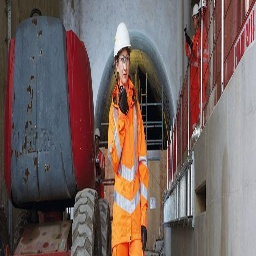helmet: (112, 22, 135, 60)
person: (107, 20, 150, 256)
vest: (105, 88, 147, 256)
